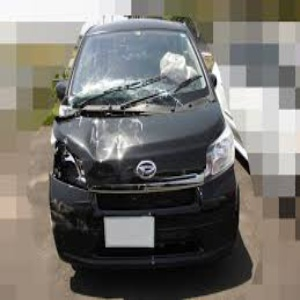bonnet: (55, 110, 159, 161)
